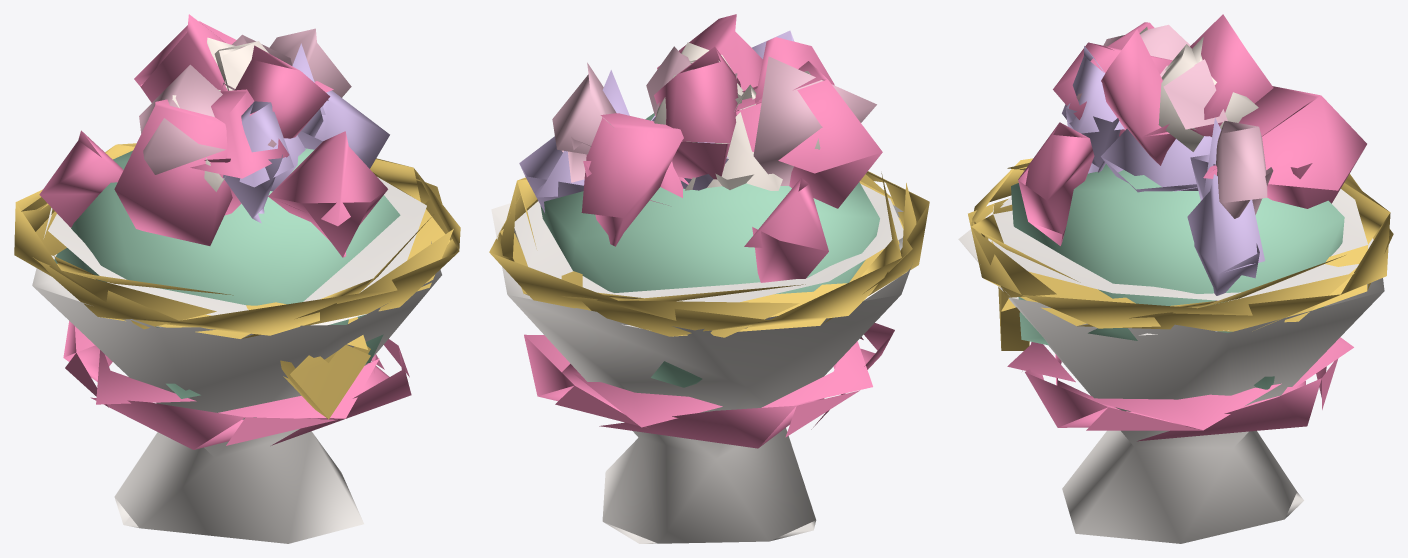
The model's file is lod_planter_round.glb.
3 views of the same model, side by side, from view 1: azimuth 30°, elevation 25°; view 2: azimuth 150°, elevation 25°; view 3: azimuth 270°, elevation 25° (orthographic).
Visible parts, largest first — view 1: planter_round; view 2: planter_round; view 3: planter_round.
Part boxes in pixels (left/top/right/bottom): planter_round: left=14, top=14, right=460, bottom=543; planter_round: left=489, top=14, right=929, bottom=543; planter_round: left=958, top=14, right=1393, bottom=543.
Bounding box in the file's own units: 1.27 × 1.48 × 1.24.
